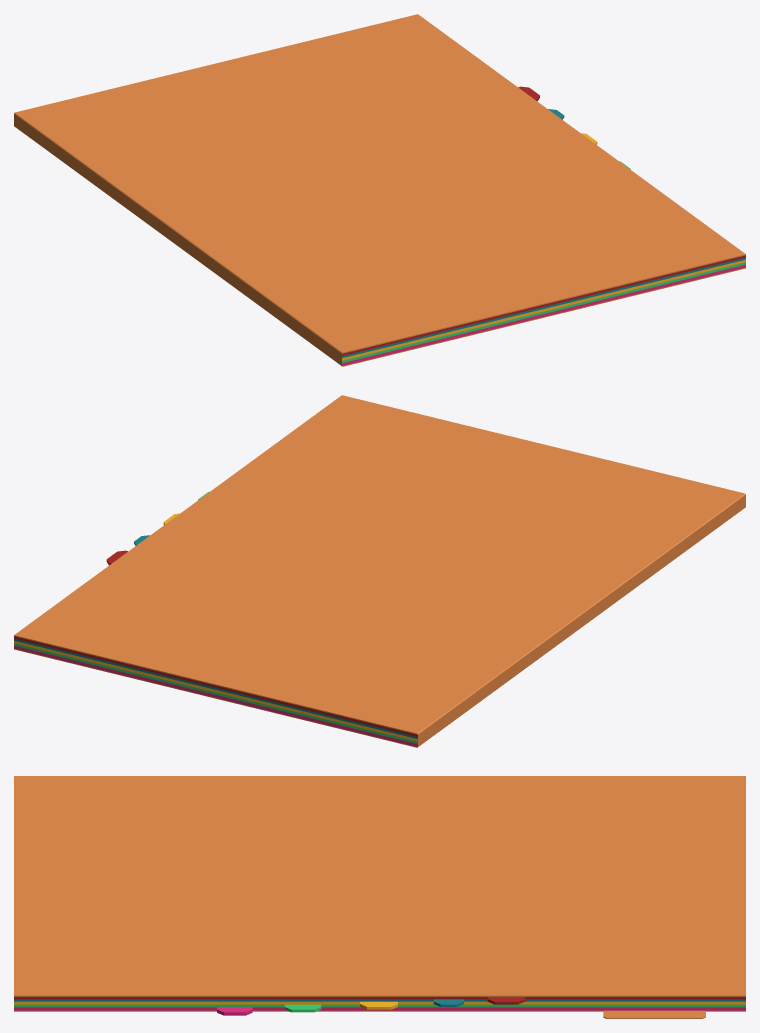
The model's file is WSDocs_002.fbx.
The picture shows the model from 3 angles, top to bottom: view 1: azimuth 30°, elevation 25°; view 2: azimuth 150°, elevation 25°; view 3: azimuth 270°, elevation 25°; orthographic projection. The views are drawn at different scales.
Visible parts, largest first — view 1: File1.001; view 2: File1.001; view 3: File1.001.
Part boxes in pixels (<box>): File1.001: <box>14,14,745,366</box>; File1.001: <box>14,395,745,747</box>; File1.001: <box>14,776,745,1018</box>.
Size of the model in its own units: 61.73 by 2.01 by 84.
